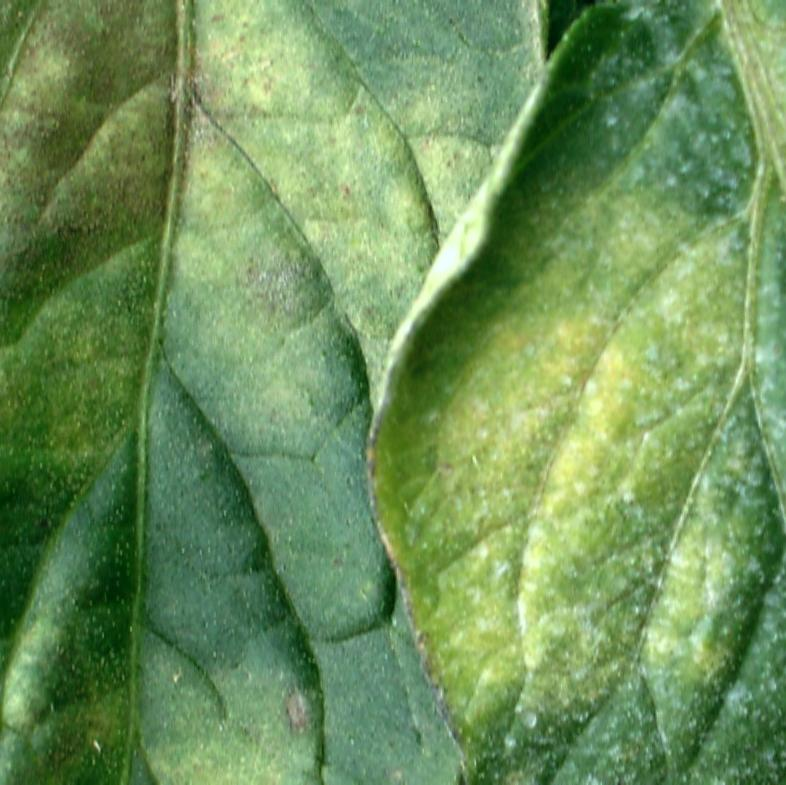Tomato mold leaf: (0, 0, 546, 785), (375, 0, 786, 785)
